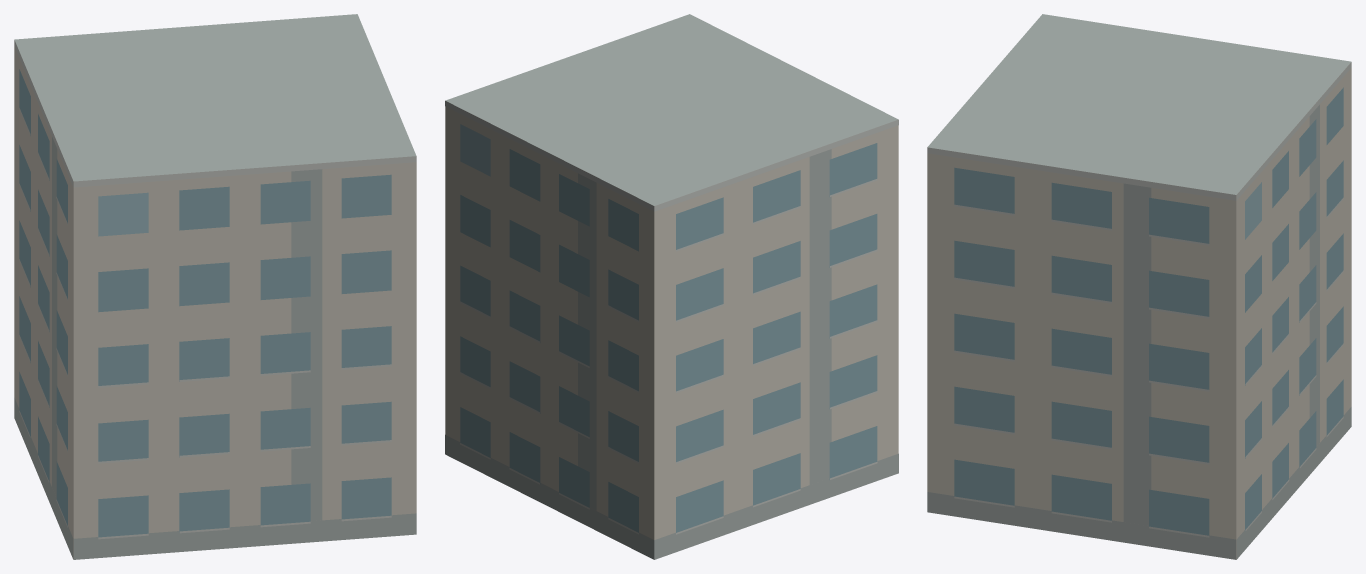
The model's file is residential-8657058b-8e58-43ff-a5b4-0e2d2343300b.glb.
The picture shows the model from 3 angles, left to right: view 1: azimuth 30°, elevation 25°; view 2: azimuth 150°, elevation 25°; view 3: azimuth 270°, elevation 25°; orthographic projection. The views are drawn at different scales.
Visible parts, largest first — view 1: residential-8657058b-8e58-43ff-a5b4-0e2d2343300b.tmp; view 2: residential-8657058b-8e58-43ff-a5b4-0e2d2343300b.tmp; view 3: residential-8657058b-8e58-43ff-a5b4-0e2d2343300b.tmp.
Boxes of the visible parts, x1=… form: residential-8657058b-8e58-43ff-a5b4-0e2d2343300b.tmp: x1=14, y1=14, x2=416, y2=559; residential-8657058b-8e58-43ff-a5b4-0e2d2343300b.tmp: x1=445, y1=14, x2=898, y2=559; residential-8657058b-8e58-43ff-a5b4-0e2d2343300b.tmp: x1=927, y1=14, x2=1351, y2=559.
Size of the model in its own units: 16.23 by 15.25 by 16.09.
